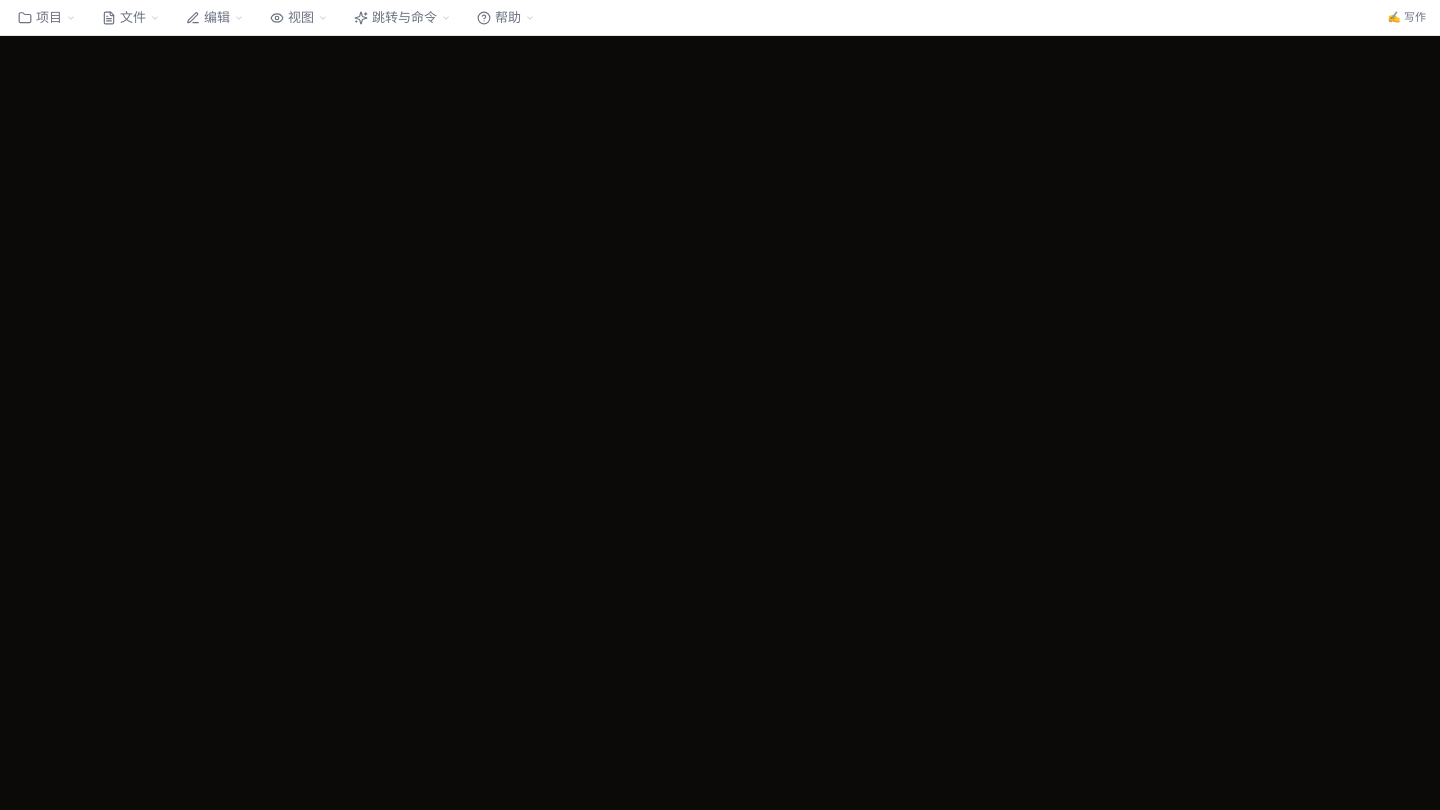
Scenario: MenuBar(注册表驱动) › 菜单项与注册表 file 分类完全一致(label + 快捷键标签)
This screenshot has width=1440, height=810.
Click the button with test id "menu-file": (131, 18) [90,4,172,32]
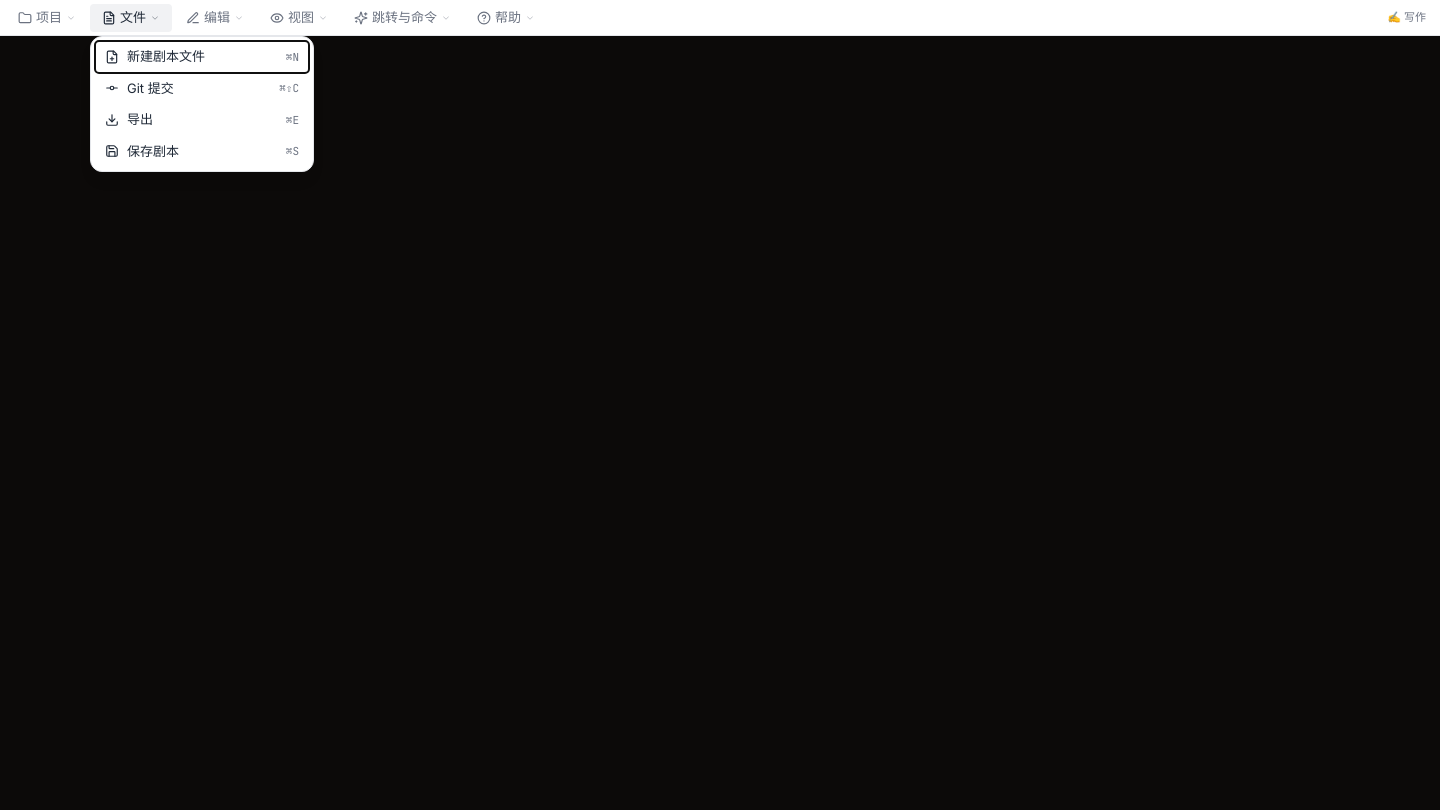
Check: the button with test id "menu-item-file-newScriptFile" shows "新建剧本文件", box [95,41,309,72]
Check: the button with test id "menu-item-file-newScriptFile" shows "⌘N", box [95,41,309,72]
